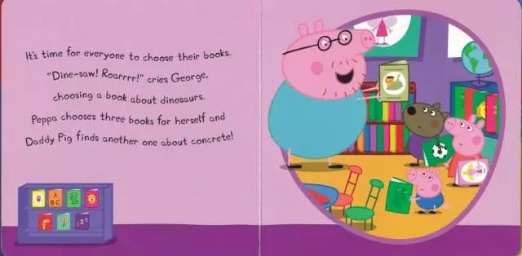Peppa: (442, 115, 489, 188)
